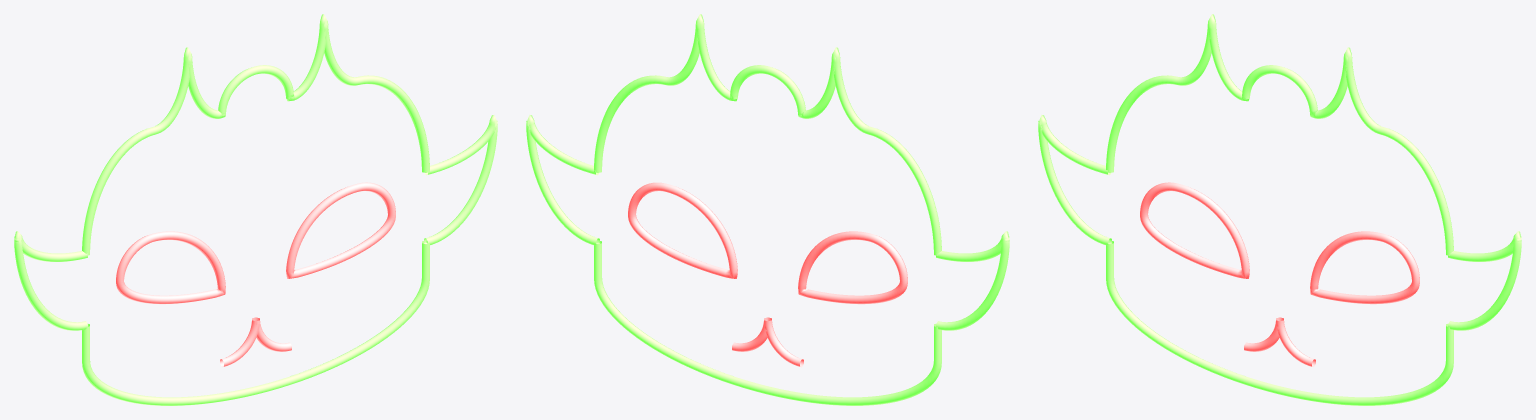
File: alien-baby-transformed.glb
The picture shows the model from 3 angles, left to right: view 1: azimuth 30°, elevation 25°; view 2: azimuth 150°, elevation 25°; view 3: azimuth 330°, elevation 25°; orthographic projection.
Parts seen in each view (by area): view 1: Alient Baby; view 2: Alient Baby; view 3: Alient Baby.
Boxes of the visible parts, left/top/right/bottom form: Alient Baby: left=14, top=14, right=497, bottom=405; Alient Baby: left=526, top=14, right=1009, bottom=405; Alient Baby: left=1038, top=14, right=1521, bottom=405.
Size of the model in its own units: 0.0602 by 0.0433 by 0.000868.
